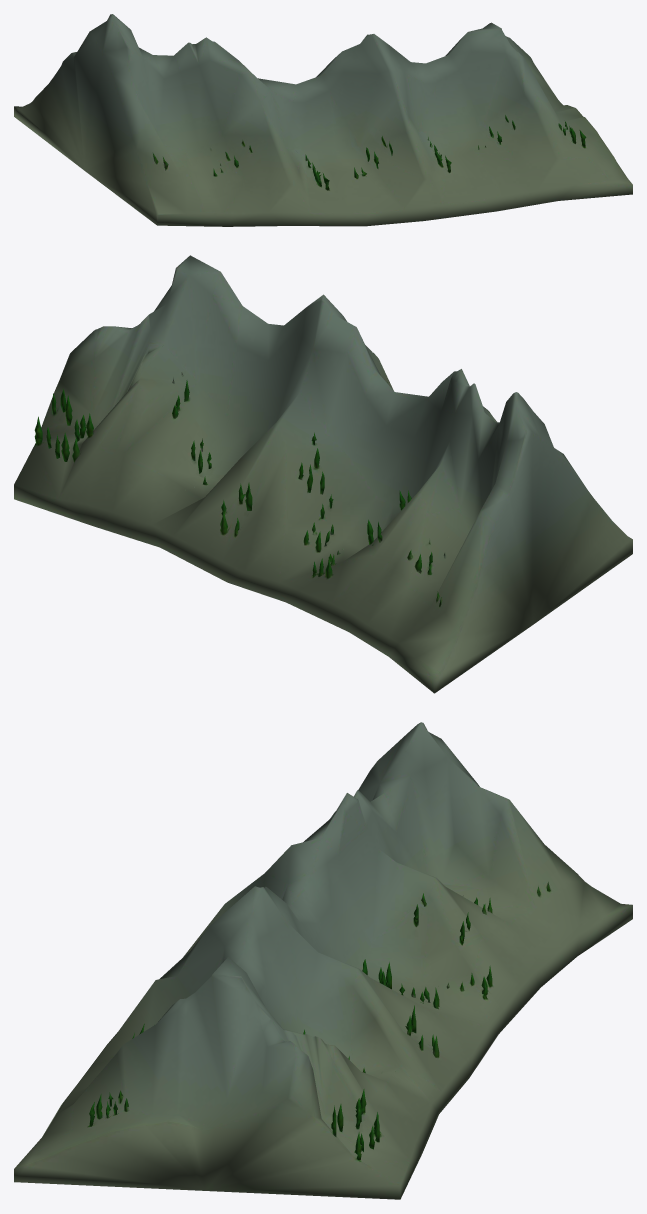
The model's file is mountain_ridge_a.glb.
3 views of the same model, one above another, from view 1: azimuth 30°, elevation 25°; view 2: azimuth 150°, elevation 25°; view 3: azimuth 270°, elevation 25° (orthographic). The views are drawn at different scales.
Parts seen in each view (by area): view 1: tripo_node_30683aab-981b-46e3-aabd-8103fb422df3; view 2: tripo_node_30683aab-981b-46e3-aabd-8103fb422df3; view 3: tripo_node_30683aab-981b-46e3-aabd-8103fb422df3.
Part boxes in pixels (x1=…): tripo_node_30683aab-981b-46e3-aabd-8103fb422df3: x1=14, y1=14, x2=632, y2=226; tripo_node_30683aab-981b-46e3-aabd-8103fb422df3: x1=14, y1=255, x2=632, y2=693; tripo_node_30683aab-981b-46e3-aabd-8103fb422df3: x1=14, y1=722, x2=632, y2=1199.
Size of the model in its own units: 0.9805 by 0.416 by 0.998.
Materials: 1 (1 with a texture image).
